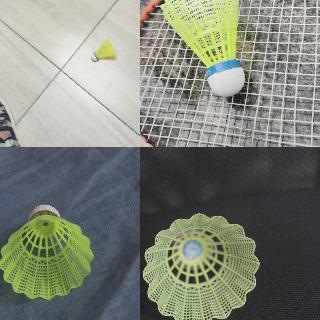shuttlecock: (141, 214, 259, 319), (0, 204, 93, 300), (160, 0, 245, 97), (89, 38, 117, 62)
